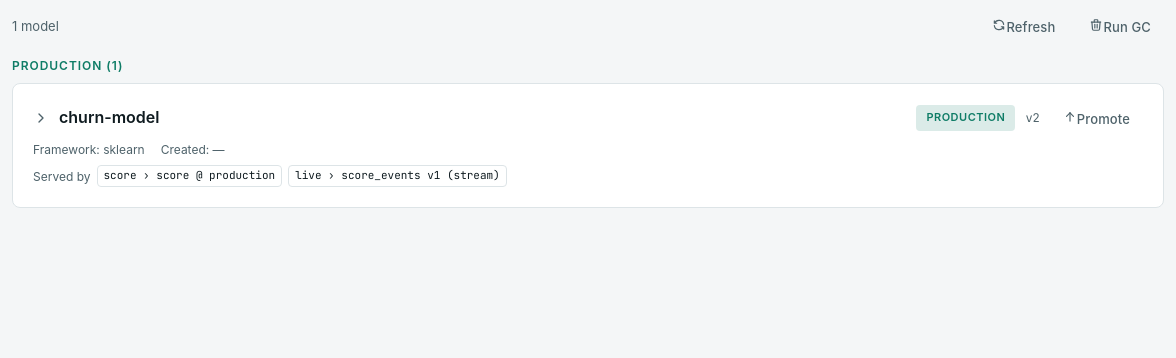
Test: ModelRegistryTab › shows each version's real stage, metrics, features and artifact hash
Click the button named "Expand versions" at (41, 118), box [33,110,49,126]
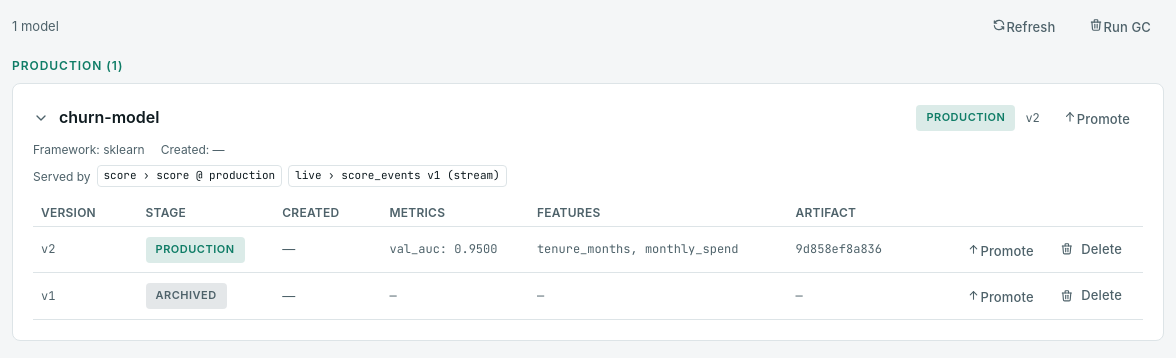
expect the text "Production" next to "val_auc: 0.9500" is shown: met, box [156,242,235,256]
expect the text "val_auc: 0.9500" is shown: met, box [381,227,529,273]
expect the text "tenure_months, monthly_spend" is shown: met, box [537,241,738,257]
